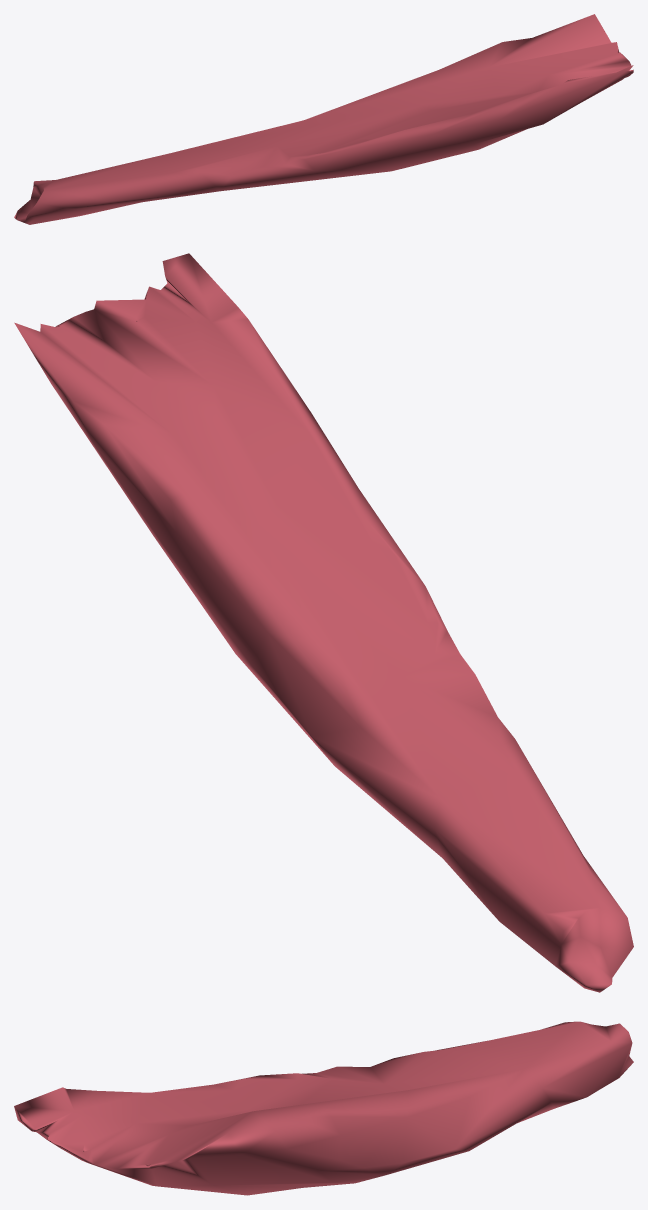
3 views of the same model, one above another, from view 1: azimuth 30°, elevation 25°; view 2: azimuth 150°, elevation 25°; view 3: azimuth 270°, elevation 25° (orthographic). The views are drawn at different scales.
Visible parts, largest first — view 1: 右侧拇短屈肌浅头; view 2: 右侧拇短屈肌浅头; view 3: 右侧拇短屈肌浅头.
Part boxes in pixels (x1,y1,x2,y2): 右侧拇短屈肌浅头: (14,14,633,224); 右侧拇短屈肌浅头: (14,253,633,992); 右侧拇短屈肌浅头: (14,1021,633,1195).
Bounding box in the file's own units: 0.064 × 0.0244 × 0.0455.
